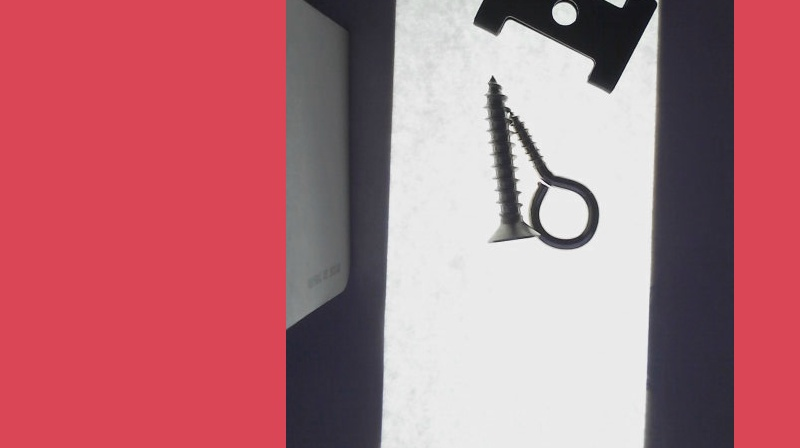O001: (509, 108, 600, 249)
O002: (473, 0, 656, 92)
S001: (485, 73, 540, 242)
